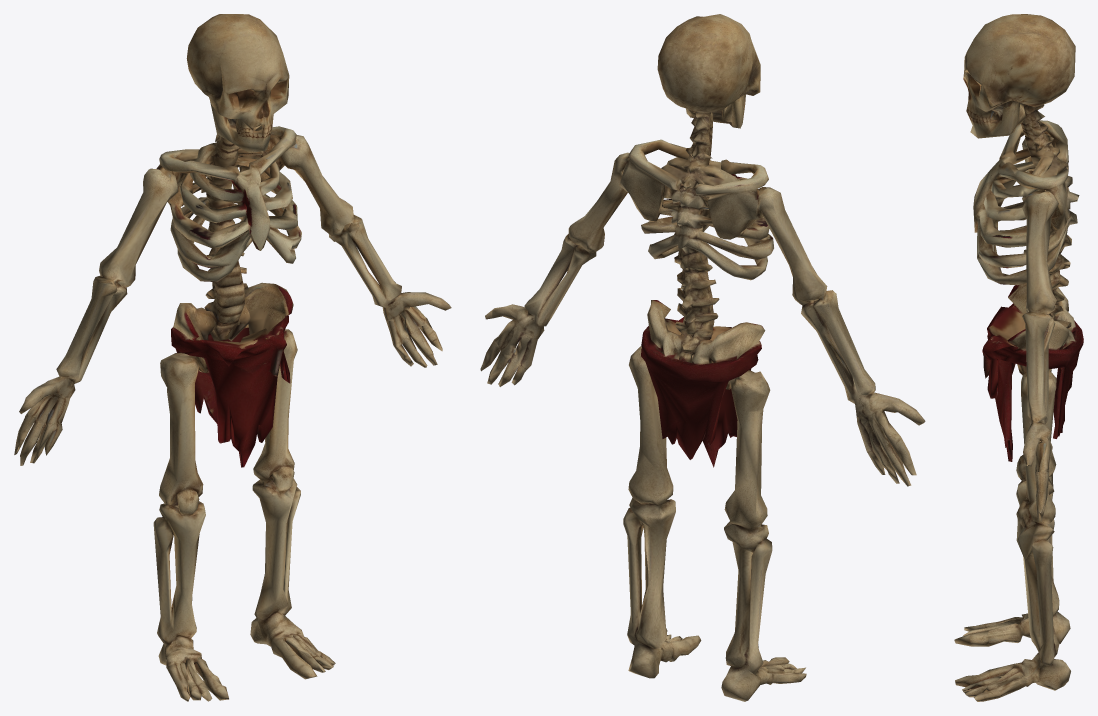
The model's file is MWT_SK_Bare.fbx.
The picture shows the model from 3 angles, left to right: view 1: azimuth 30°, elevation 25°; view 2: azimuth 150°, elevation 25°; view 3: azimuth 270°, elevation 25°; orthographic projection.
Parts seen in each view (by area): view 1: Mesh_0; view 2: Mesh_0; view 3: Mesh_0.
Part boxes in pixels (box(x1,y1,x2,y2)): Mesh_0: box(14, 14, 451, 701); Mesh_0: box(480, 14, 925, 701); Mesh_0: box(954, 14, 1083, 701).
Bounding box in the file's own units: 139 × 200 × 36.23.
1 material, 1 textured.
